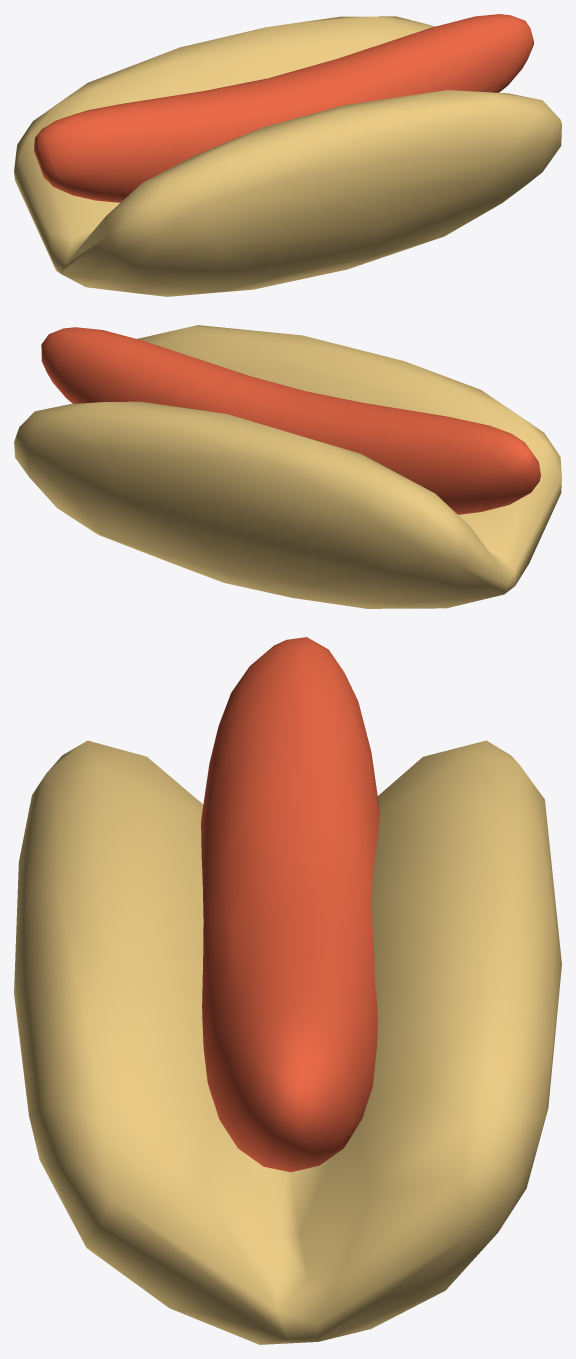
The model's file is perro.fbx.
3 renders of one model, top to bottom at view 1: azimuth 30°, elevation 25°; view 2: azimuth 150°, elevation 25°; view 3: azimuth 270°, elevation 25°, orthographic. The views are drawn at different scales.
Visible parts, largest first — view 1: Cube.100, Cube.099; view 2: Cube.100, Cube.099; view 3: Cube.100, Cube.099.
Boxes of the visible parts, x1=… form: Cube.100: x1=14, y1=16, x2=561, y2=296; Cube.099: x1=34, y1=14, x2=533, y2=202; Cube.100: x1=14, y1=325, x2=561, y2=608; Cube.099: x1=41, y1=327, x2=540, y2=514; Cube.100: x1=14, y1=740, x2=561, y2=1344; Cube.099: x1=201, y1=637, x2=379, y2=1172.
Size of the model in its own units: 258 by 94.36 by 131.
